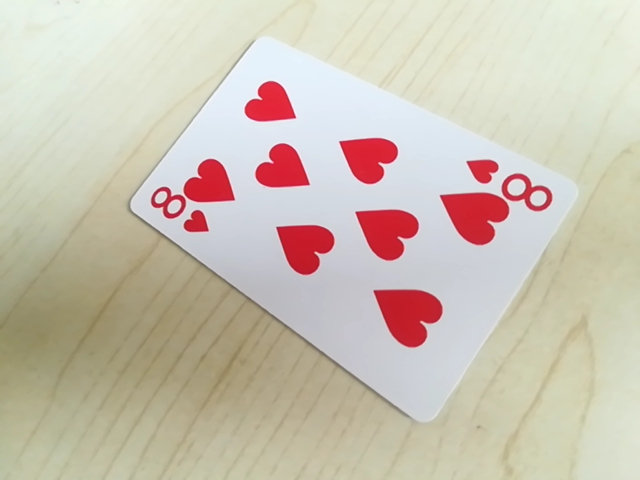hx 8: (463, 161, 557, 207), (144, 190, 215, 234)
